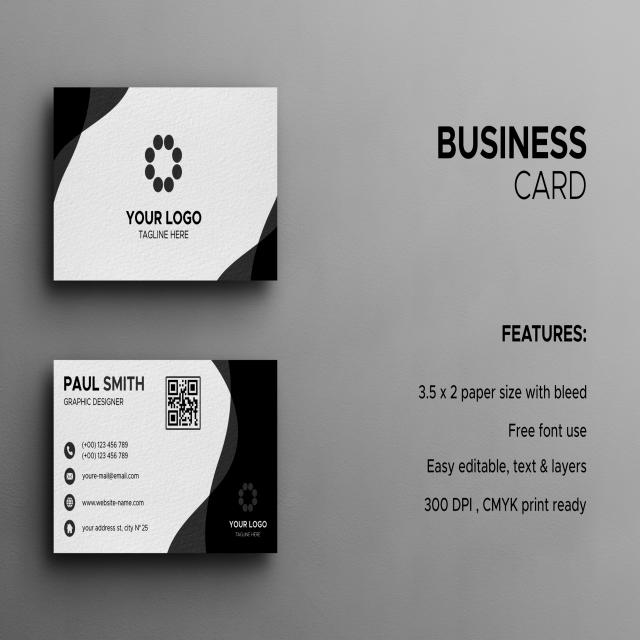QR-codes: (166, 374, 203, 431)
